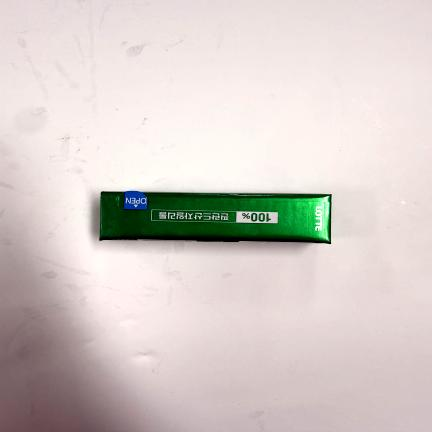gum_green: (100, 190, 331, 244)
